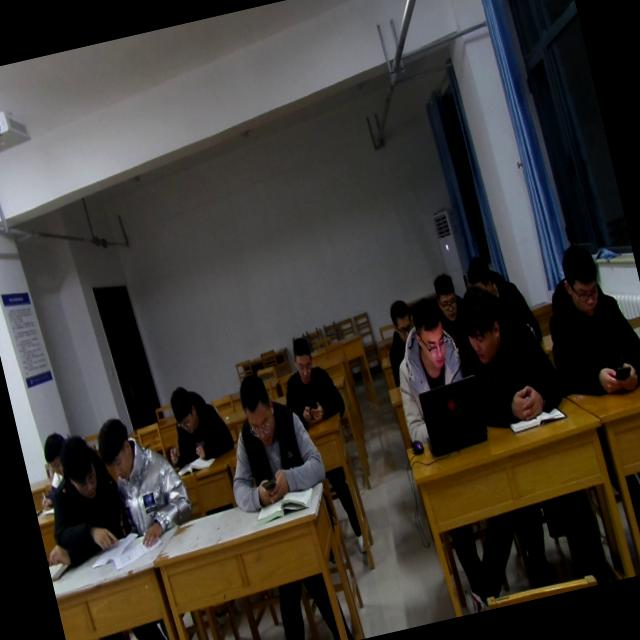down: (230, 366, 284, 454), (554, 238, 610, 320), (407, 294, 454, 376), (88, 412, 138, 489), (57, 428, 104, 502), (163, 379, 204, 441), (426, 266, 462, 325), (284, 330, 318, 385), (34, 426, 70, 476), (382, 293, 416, 345)
sit: (444, 274, 568, 434), (528, 235, 640, 406), (208, 364, 332, 515), (87, 405, 197, 555), (377, 294, 478, 452), (24, 429, 134, 572), (152, 377, 240, 472), (471, 246, 545, 351), (274, 329, 348, 430), (425, 270, 477, 362), (376, 297, 426, 387), (26, 427, 76, 512)
